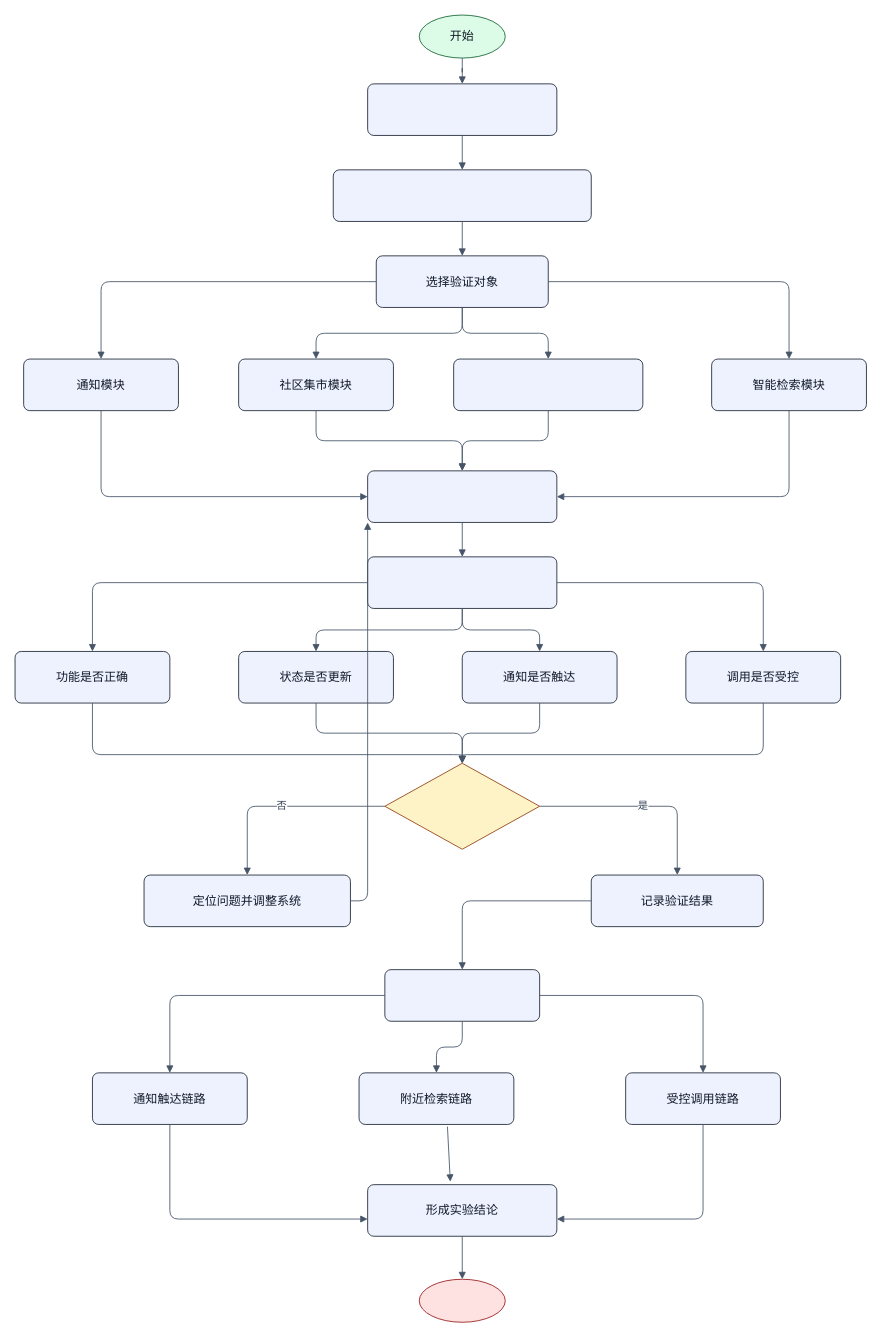
This 882x1337 diagram has some shape labels left out. The shapes that lost their labels are listed below. From the top down, each one's centre as x and y in pixels, then its label:
At [462,109]: "搭建实验环境".
At [461,195]: "启动后端服务与基础组件".
At [548,384]: "本地活动与互助模块".
At [462,496]: "执行业务操作".
At [462,582]: "采集运行结果".
At [462,805]: "是否满足预期".
At [462,995]: "分析关键链路".
At [461,1300]: "结束".
